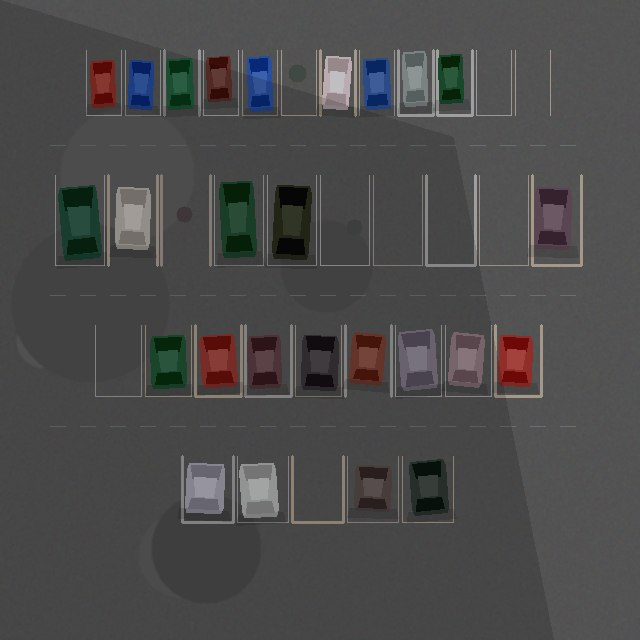space-empty: (161, 175, 210, 265), (320, 175, 369, 265), (373, 175, 422, 265), (426, 175, 475, 265), (479, 175, 528, 265), (292, 456, 343, 522), (95, 325, 141, 396), (281, 50, 316, 115), (476, 50, 511, 115), (515, 50, 550, 115)
space-occupied: (55, 175, 104, 265), (108, 175, 157, 265), (214, 175, 263, 265), (267, 175, 316, 265), (532, 175, 581, 265), (182, 456, 233, 522), (237, 456, 288, 522), (347, 456, 398, 522), (402, 456, 453, 522), (145, 325, 191, 396), (195, 325, 241, 396), (245, 325, 291, 396), (295, 325, 341, 396), (345, 325, 391, 396), (395, 325, 441, 396), (445, 325, 491, 396), (495, 325, 541, 396), (86, 50, 121, 115), (125, 50, 160, 115), (164, 50, 199, 115), (203, 50, 238, 115), (242, 50, 277, 115), (320, 50, 355, 115), (359, 50, 394, 115), (398, 50, 433, 115), (437, 50, 472, 115)
